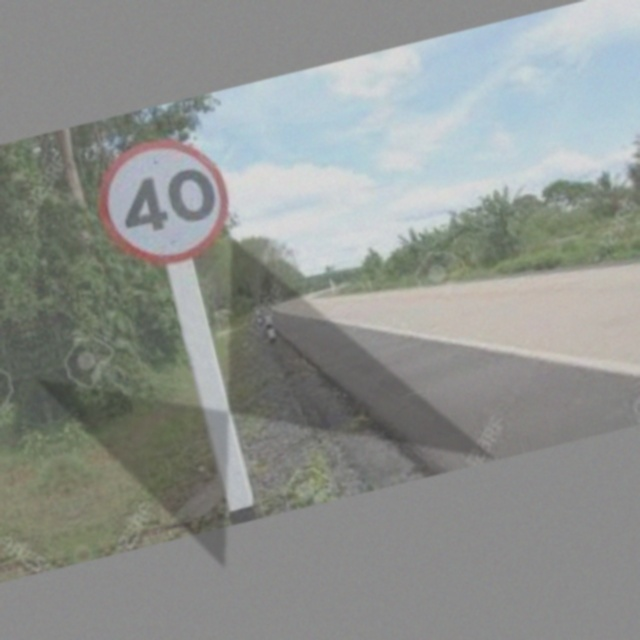Speed_Limit_40: (89, 120, 239, 274)
